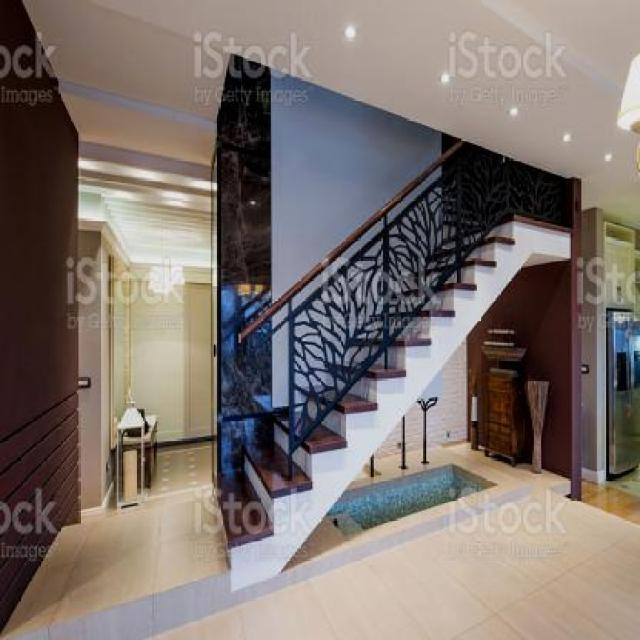stair: (226, 168, 571, 598)
